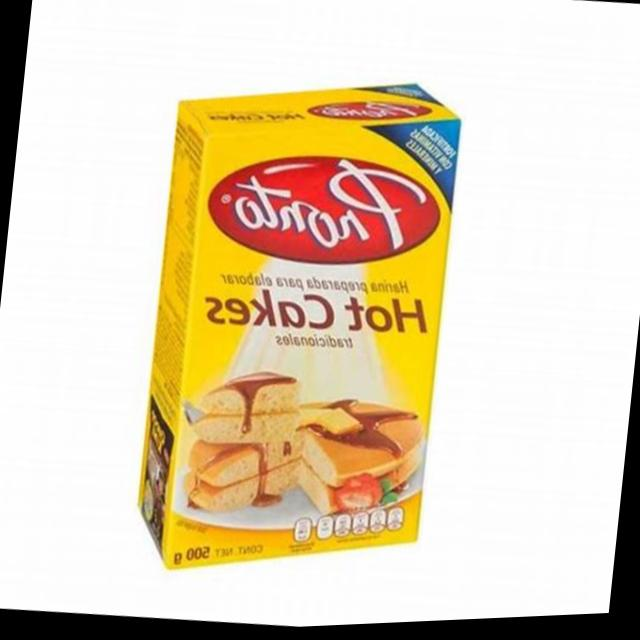Caja: (133, 35, 480, 600)
